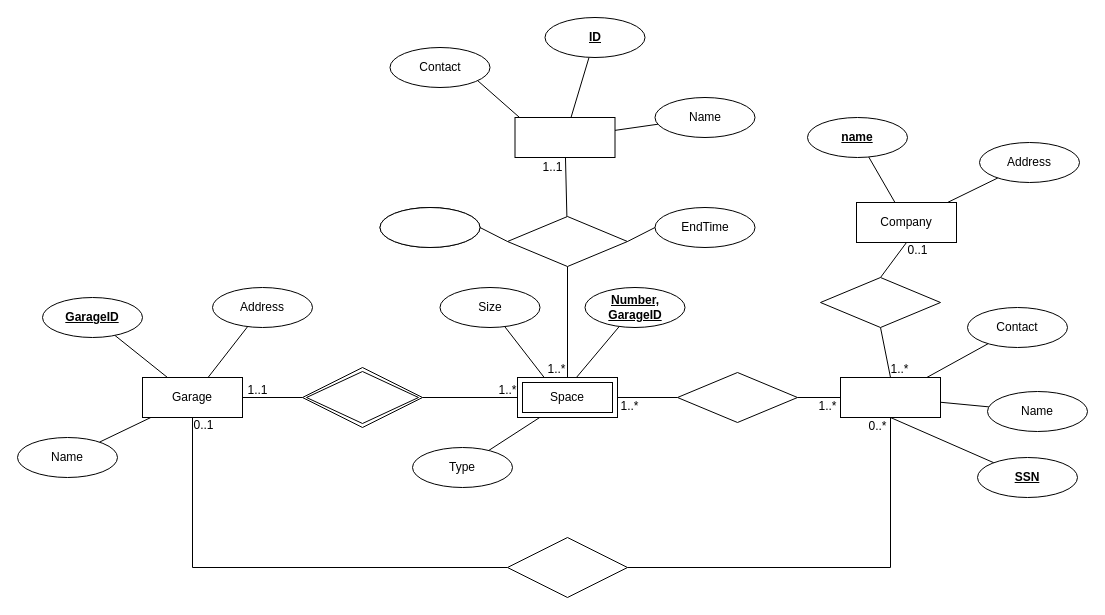
The diagram is 1105 pixels wide and 615 high, and some of its shapes have lost their labels. Each missing label, with the centre of its shape:
"Attribute" goes at point (429, 227).
"Customer" goes at point (564, 137).
"Employ" goes at point (880, 302).
"Has" goes at point (362, 397).
"Manage" goes at point (737, 397).
"Rent" goes at point (567, 241).
"Staff" goes at point (890, 397).
"Work" goes at point (567, 567).
